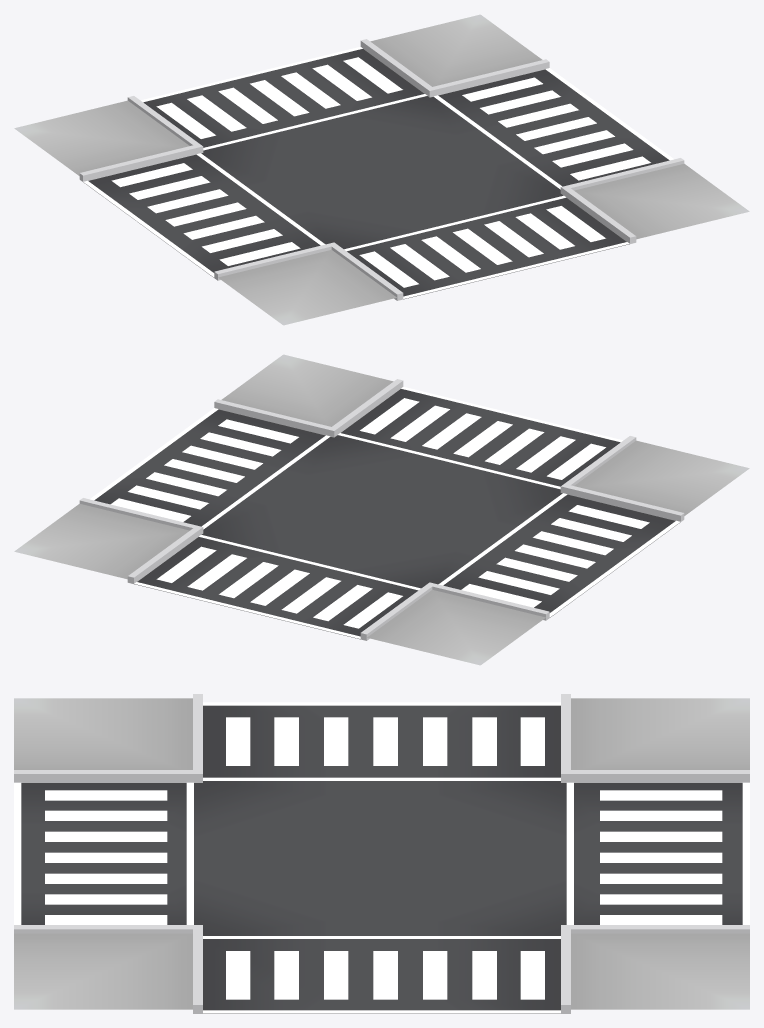
File: city2-road-029.glb
The picture shows the model from 3 angles, top to bottom: view 1: azimuth 30°, elevation 25°; view 2: azimuth 150°, elevation 25°; view 3: azimuth 270°, elevation 25°; orthographic projection. The views are drawn at different scales.
Visible parts, largest first — view 1: road_029; view 2: road_029; view 3: road_029.
Boxes of the visible parts, x1,y1,x2,y2 form: road_029: (14,14,749,325); road_029: (14,354,749,665); road_029: (14,694,749,1013).
Bounding box in the file's own units: 15 × 0.2 × 15.
Materials: 1 (1 with a texture image).
